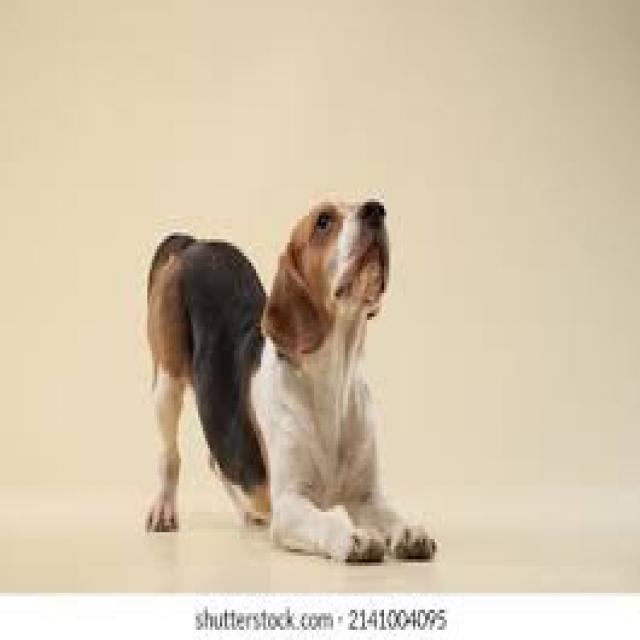Dog: (140, 185, 441, 567)
